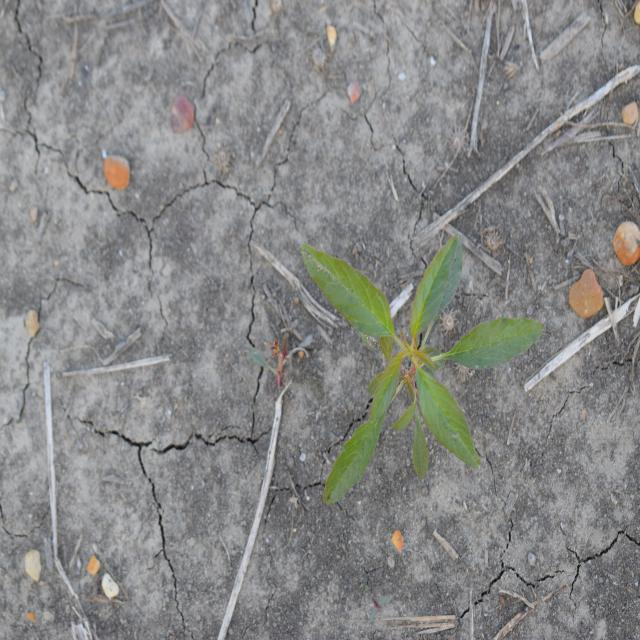Waterhemp: (298, 232, 544, 507)
